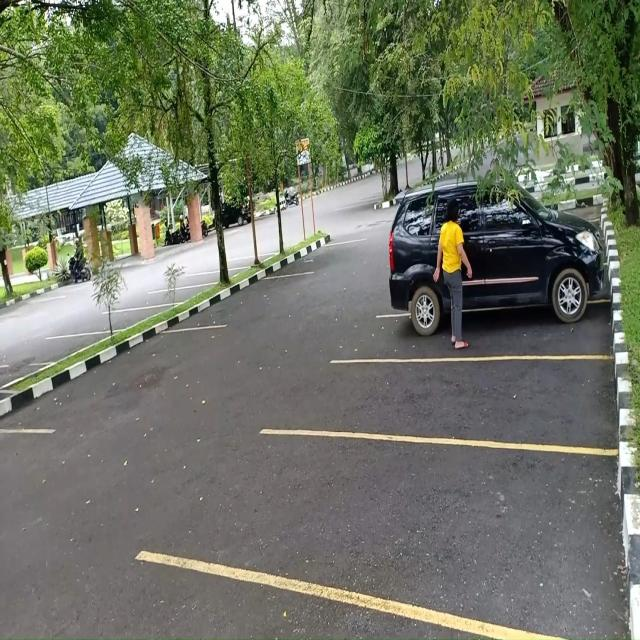empty: (304, 433, 618, 633), (342, 356, 615, 448), (219, 274, 308, 328), (11, 334, 89, 367), (88, 308, 146, 334), (147, 286, 201, 308)
occupied: (379, 247, 608, 361)
